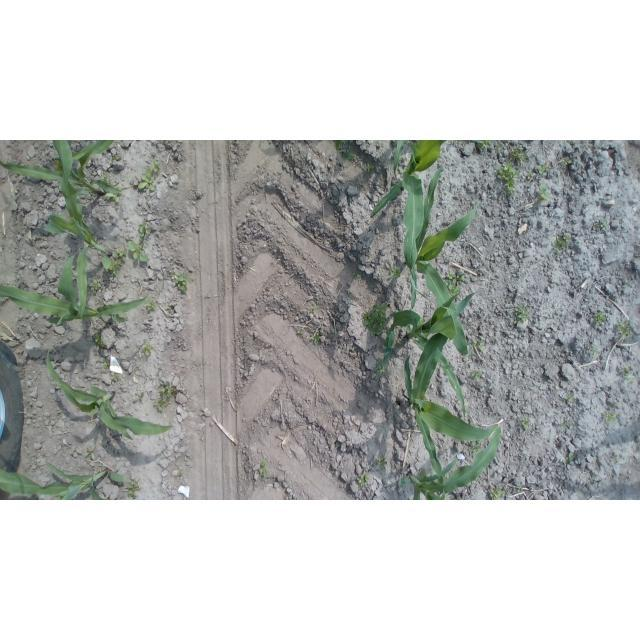Maize: (405, 293, 498, 484), (405, 166, 480, 354), (42, 141, 114, 321), (371, 140, 446, 310), (383, 291, 478, 417), (45, 348, 175, 440), (398, 427, 502, 500), (1, 141, 122, 198), (0, 284, 148, 326), (1, 462, 128, 500), (395, 141, 406, 184), (334, 140, 344, 150)
Weeds: (361, 301, 387, 340), (494, 162, 521, 196), (446, 270, 466, 299), (136, 167, 158, 193), (128, 240, 149, 263), (510, 145, 530, 164), (171, 271, 189, 292), (513, 305, 531, 325), (160, 381, 179, 398), (555, 234, 572, 253), (137, 219, 152, 238), (618, 319, 633, 338), (127, 481, 140, 500), (153, 399, 172, 412), (258, 457, 269, 479), (108, 260, 123, 275), (594, 310, 607, 326), (89, 278, 100, 296), (113, 248, 128, 261), (539, 184, 550, 201), (142, 343, 155, 357), (602, 411, 616, 424), (94, 333, 106, 348), (491, 488, 506, 500), (476, 140, 493, 150), (587, 344, 600, 357), (562, 420, 575, 433), (562, 452, 574, 466), (377, 453, 388, 468), (469, 442, 482, 454), (357, 475, 369, 488), (621, 365, 631, 380), (472, 338, 484, 350), (83, 448, 94, 461), (134, 393, 147, 404), (539, 162, 549, 176), (106, 194, 121, 203), (375, 362, 386, 374), (519, 417, 530, 428), (598, 216, 608, 228), (390, 267, 401, 277), (343, 151, 354, 161), (152, 161, 163, 171), (470, 370, 483, 378), (146, 300, 155, 310), (563, 157, 573, 166), (312, 333, 320, 344), (562, 395, 574, 402), (363, 163, 373, 171), (109, 153, 119, 161), (111, 374, 119, 382), (298, 329, 305, 338), (419, 468, 426, 477), (613, 454, 619, 464), (353, 272, 361, 279), (104, 361, 110, 370), (310, 306, 317, 313), (616, 284, 628, 288), (497, 142, 503, 149), (100, 174, 106, 180), (465, 407, 469, 416), (177, 472, 184, 477), (167, 306, 173, 311), (530, 171, 535, 177), (518, 487, 523, 493), (612, 401, 617, 407), (456, 497, 463, 500), (117, 187, 123, 190), (573, 140, 577, 144), (335, 443, 339, 447)
